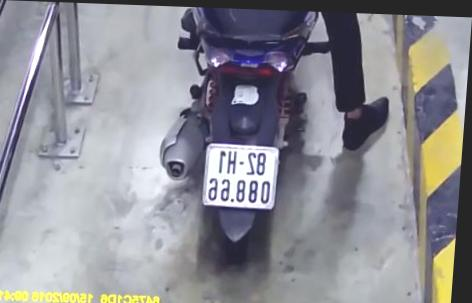License_Plate: (196, 140, 284, 215)
